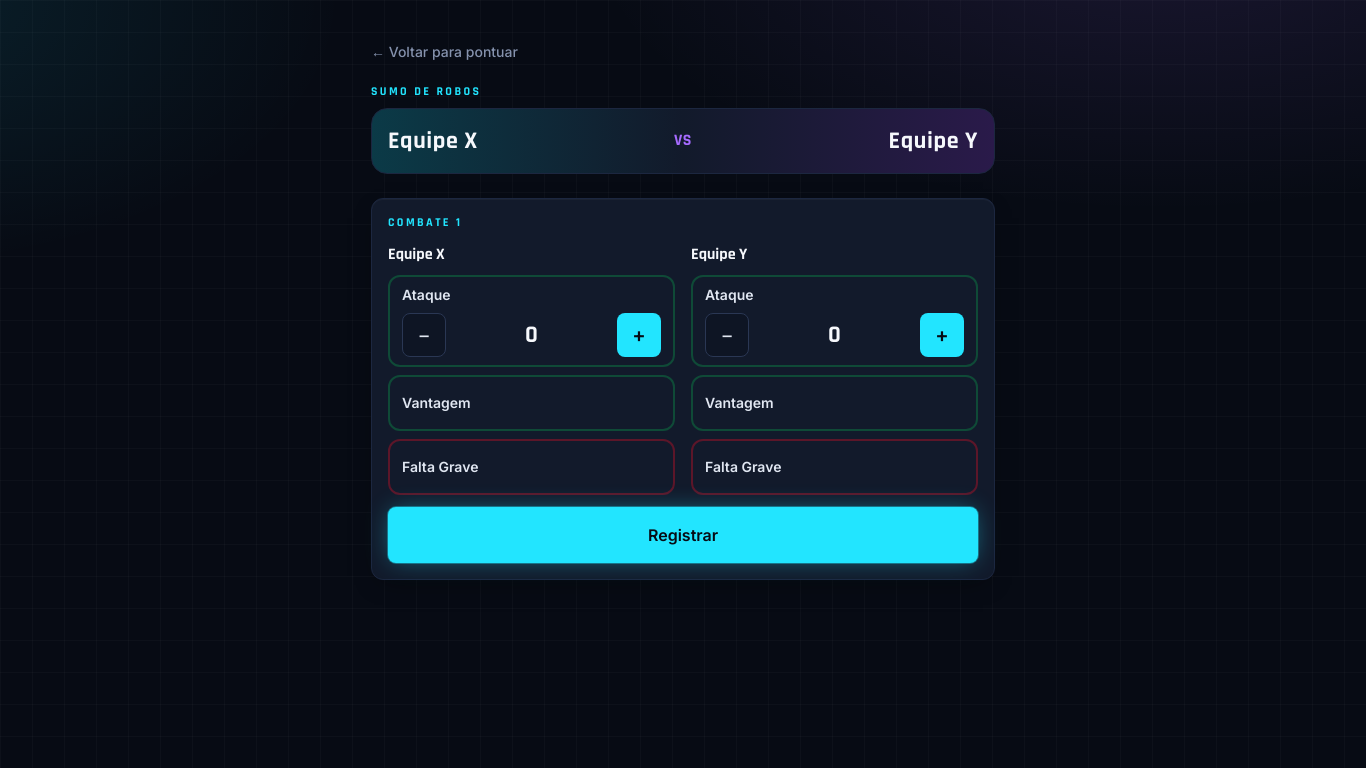
Test: PartidaScorerPage - ficha com varios criterios BOOLEANO/CONTADOR (scorer inline) › o contador (Evitar a colisao) fica independente pras duas equipes ao mesmo tempo
Click the button named "aumentar ataque" at coordinates (639, 335), box [617, 313, 661, 357]
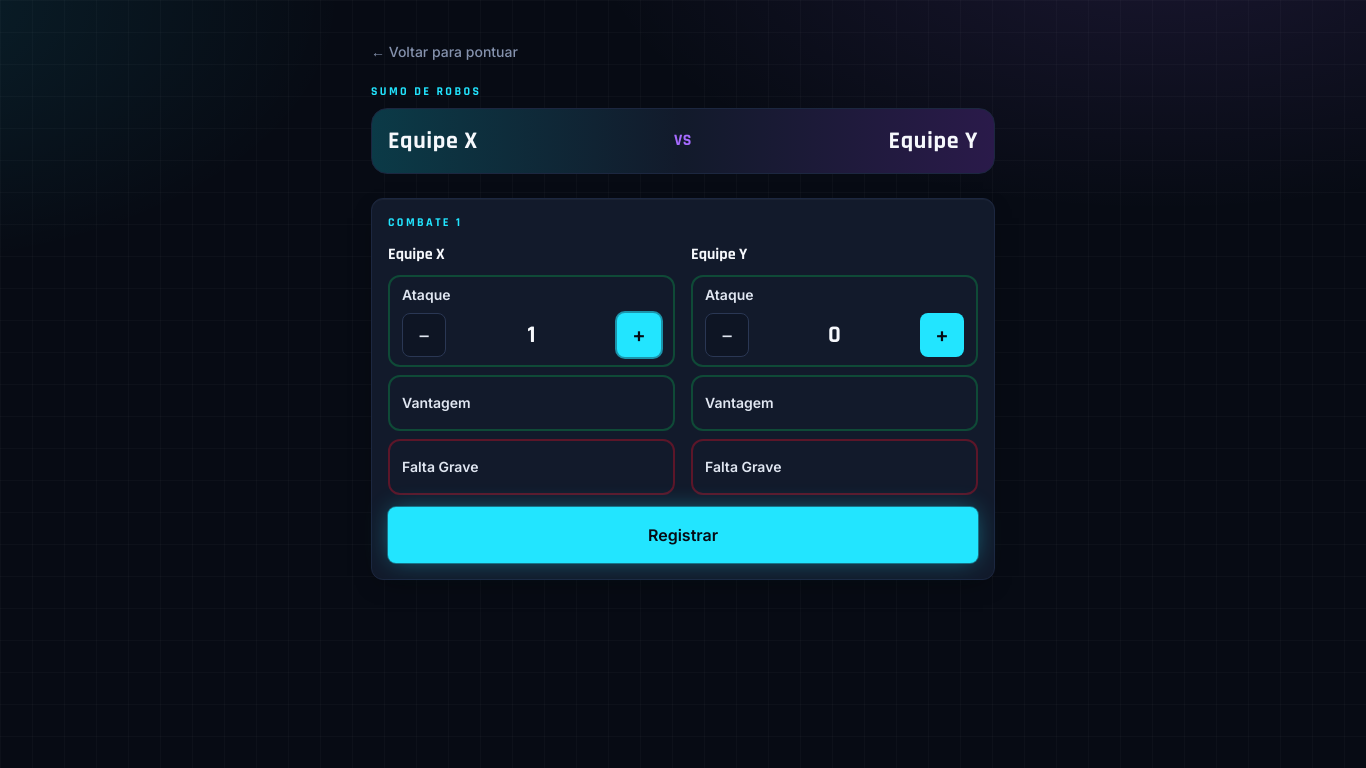
Click the button named "aumentar ataque" at coordinates (942, 335), box [920, 313, 964, 357]
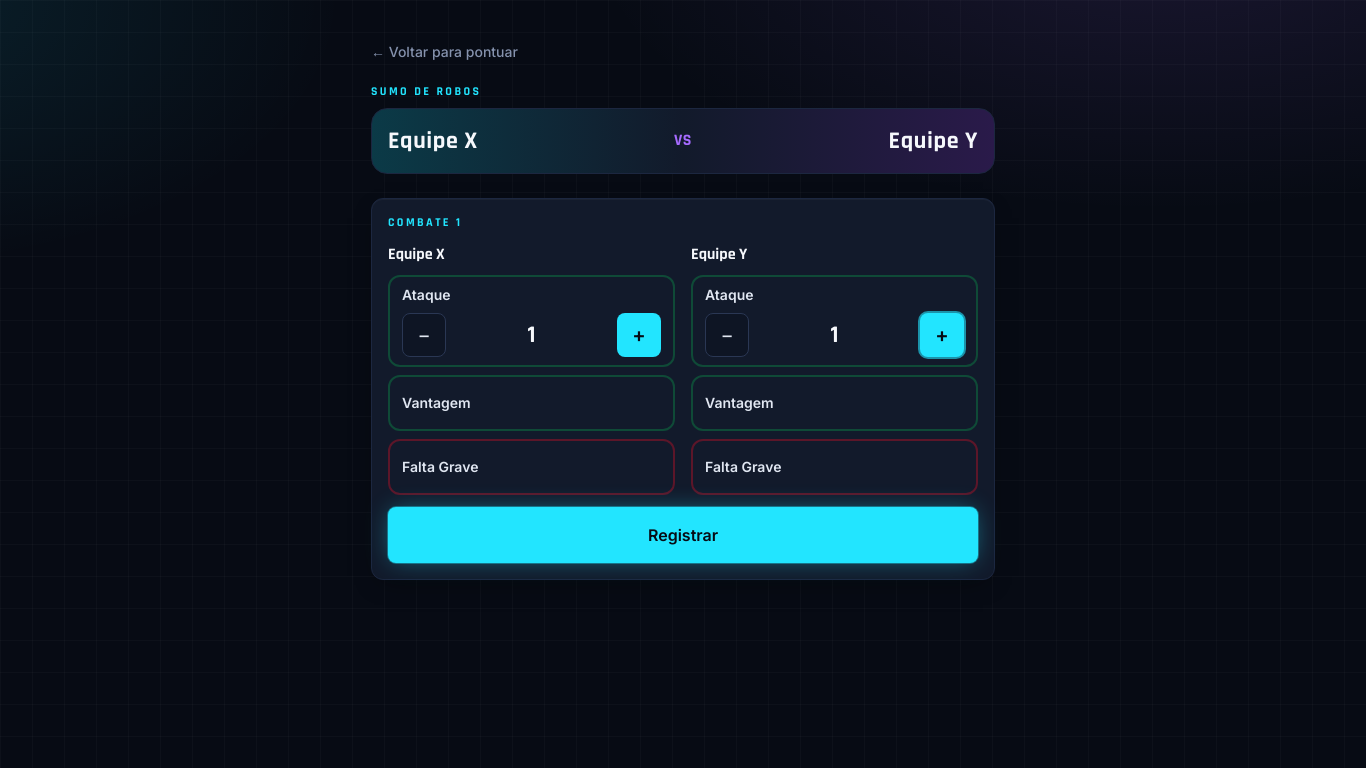
Check: the 1st text "1" is shown, box [528, 320, 536, 350]
Check: the 2nd text "1" is shown, box [830, 320, 838, 350]
